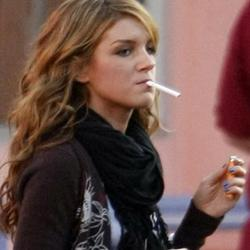smoking: (134, 77, 183, 99)
